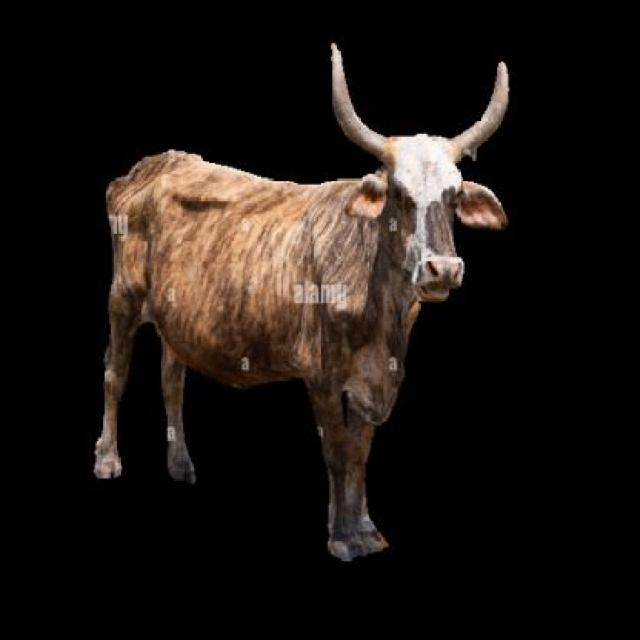Cow: (86, 45, 512, 563)
